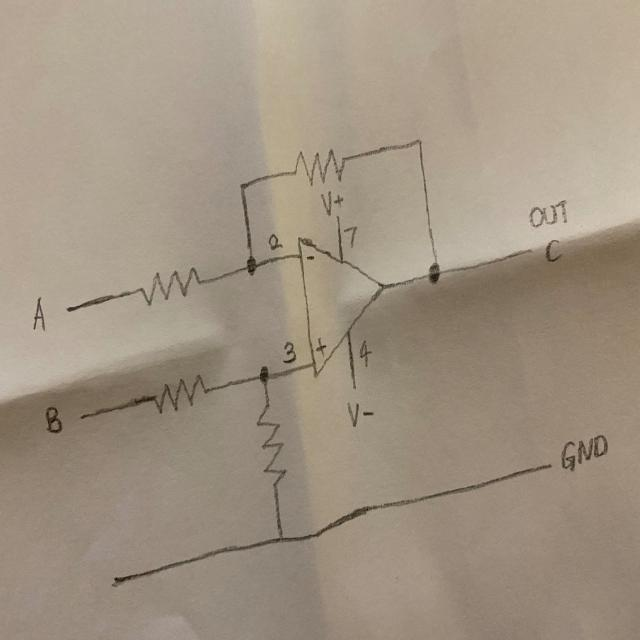junction: (422, 254, 448, 293), (238, 248, 263, 287), (268, 520, 294, 556), (405, 125, 429, 159), (252, 357, 276, 391), (234, 170, 257, 200)
resistor: (131, 262, 209, 310), (252, 398, 288, 492), (286, 141, 352, 187), (143, 371, 210, 416)
terminal: (102, 568, 140, 594), (77, 402, 110, 426), (58, 296, 94, 317), (510, 239, 540, 264), (530, 455, 557, 479)
text: (559, 433, 609, 473), (525, 198, 574, 228), (42, 404, 66, 438), (29, 293, 48, 334), (542, 234, 566, 266), (342, 222, 360, 249), (345, 399, 361, 429), (356, 338, 373, 366), (319, 187, 333, 217), (266, 231, 286, 251), (282, 338, 298, 363), (314, 332, 328, 357), (362, 405, 379, 422), (333, 193, 348, 211), (305, 250, 317, 263)
